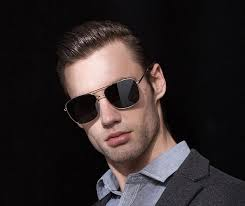g.y: (105, 79, 141, 109)
